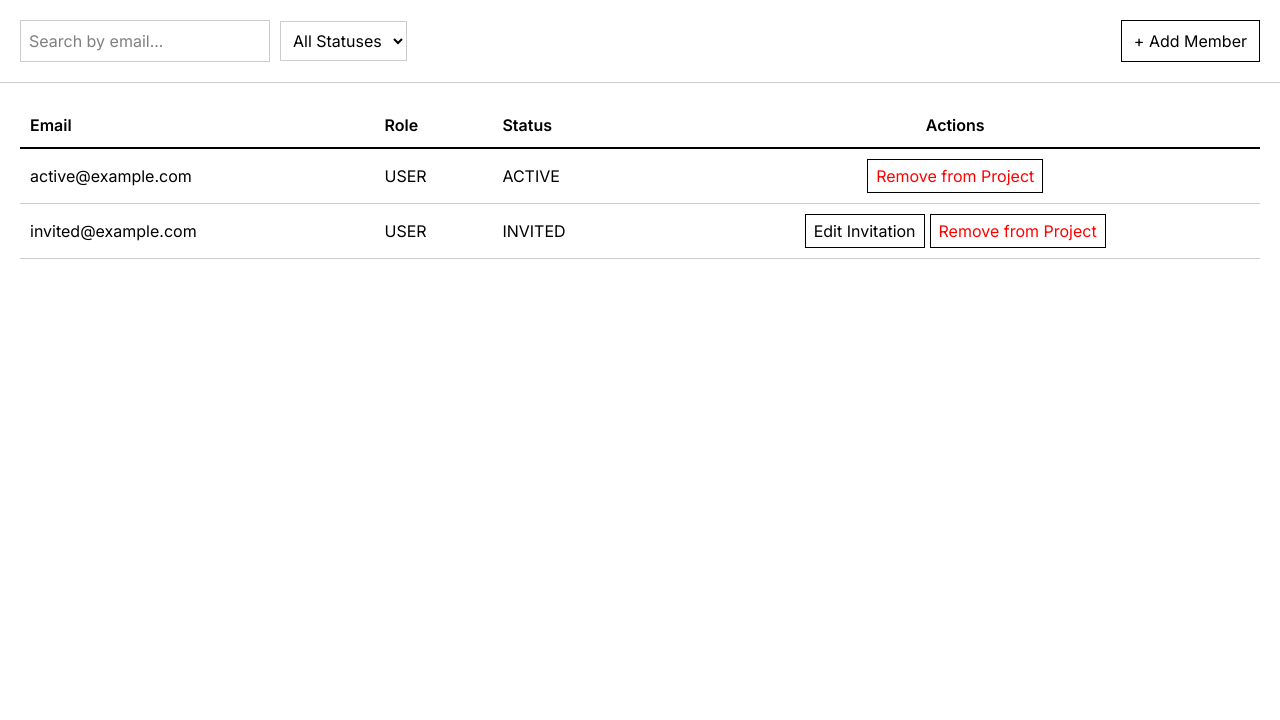
MembersScreen › adds a member via POST, mapping 409 to duplicate and 422 to blocked
The width and height of the screenshot is (1280, 720).
Check: the text "active@example.com" is shown, box top-left (20, 148), bottom-right (374, 204)
Click the button "+ Add Member" at (1190, 41), box top-left (1121, 20), bottom-right (1260, 62)
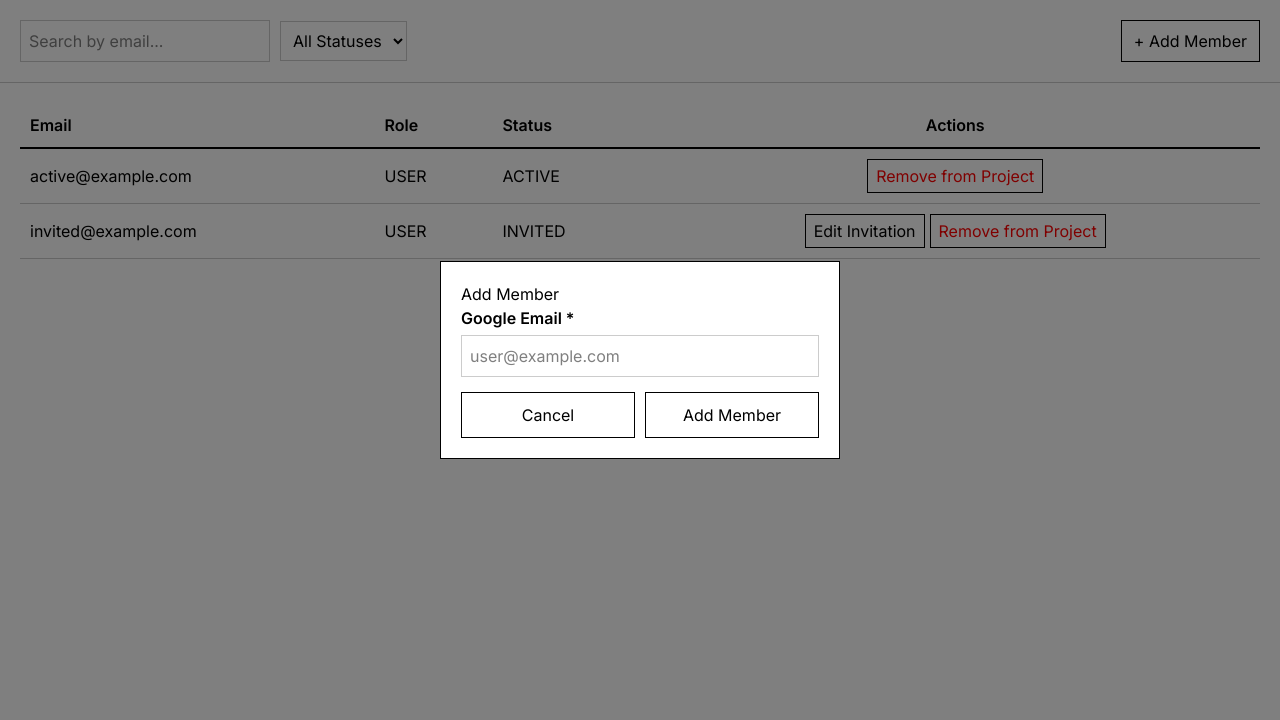
Type "dup@example.com" into the field with placeholder "user@example.com" at (640, 356), box top-left (461, 335), bottom-right (819, 377)
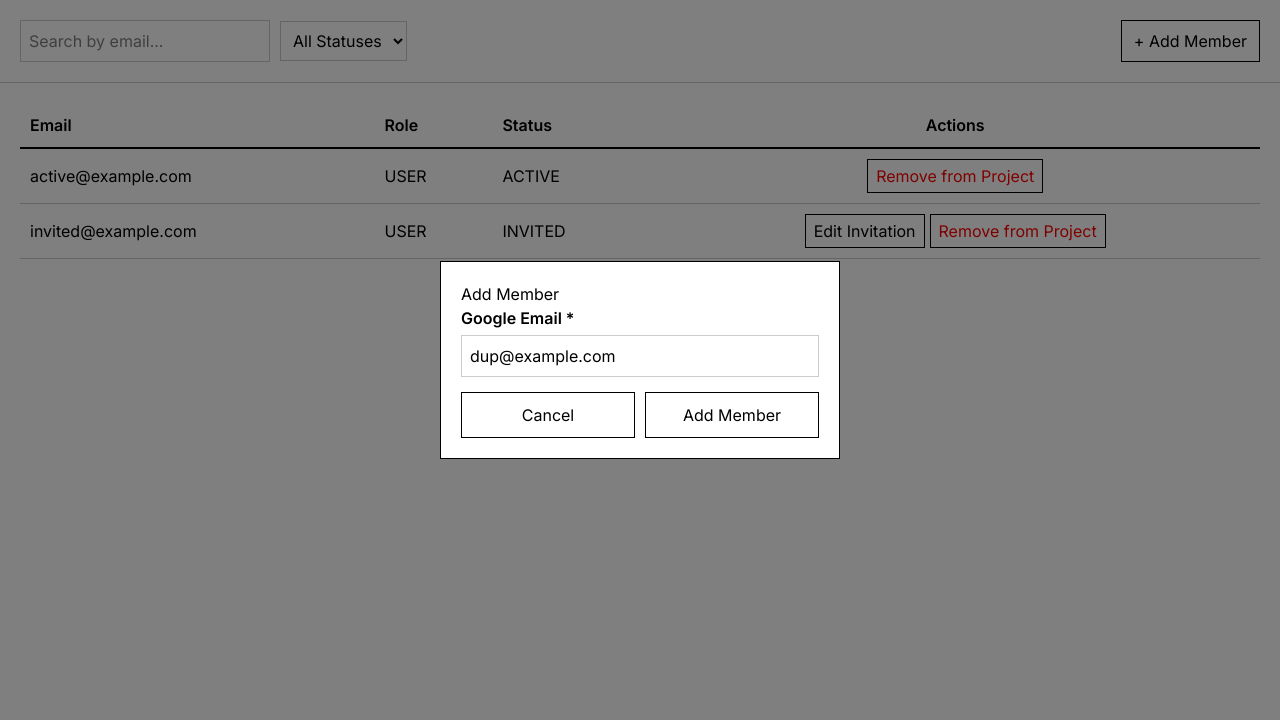
Click the button "Add Member" at (732, 415), box top-left (645, 392), bottom-right (819, 438)
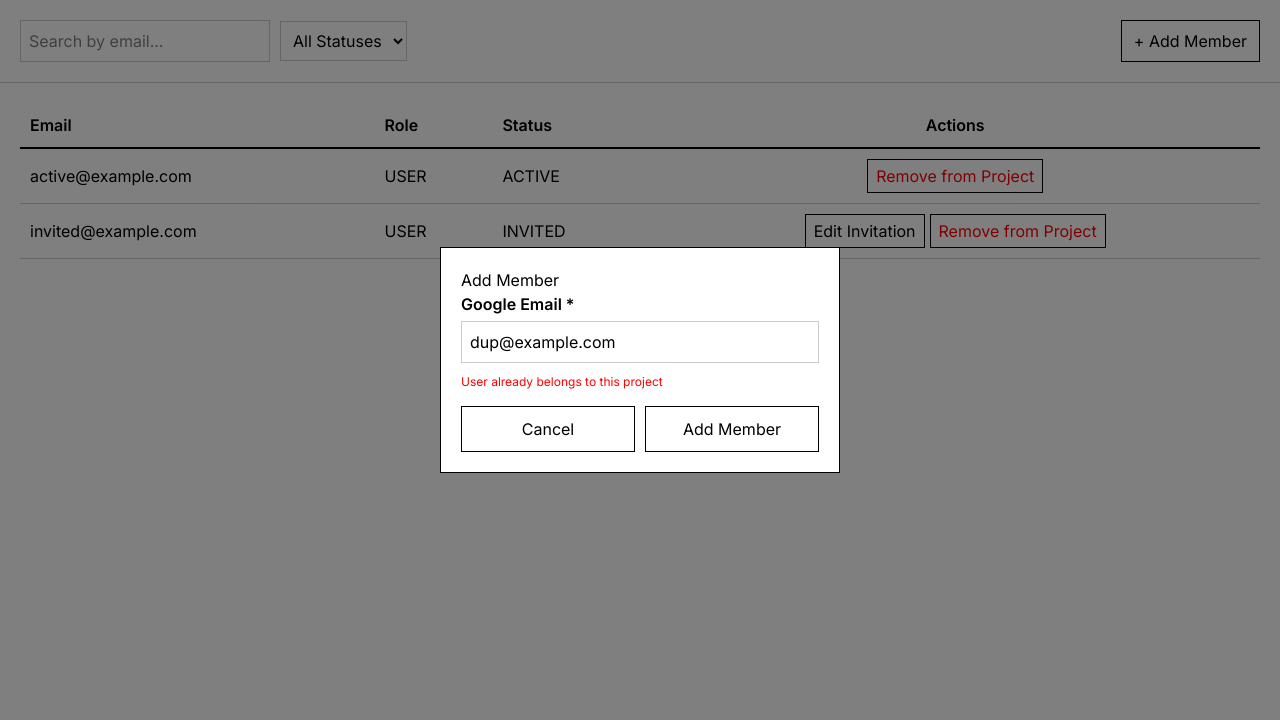
Check: the text "User already belongs to this project" is shown, box top-left (461, 374), bottom-right (663, 389)
